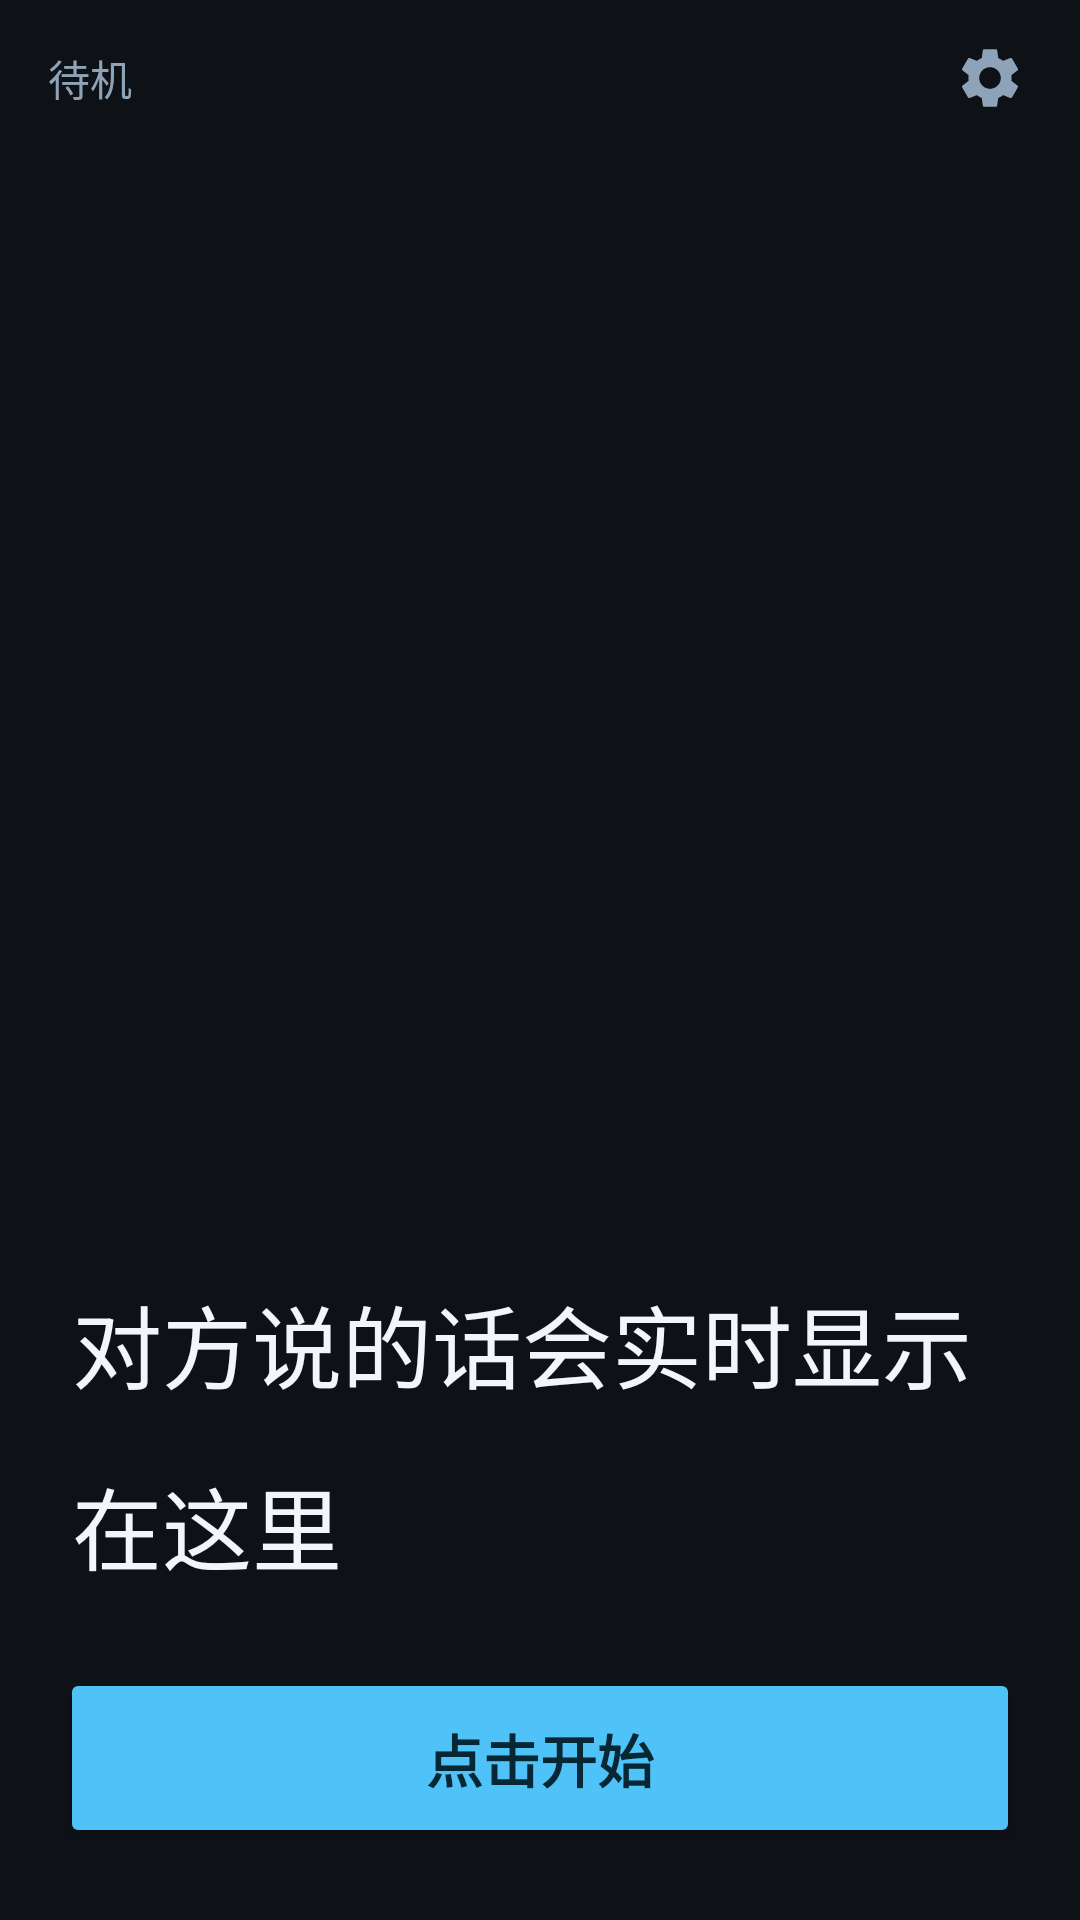

Where icons sit on this 1080x1920 app screen, as (x1, y1, x2, y2):
设置: (962, 49, 1018, 107)
